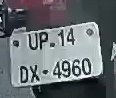0: (80, 56, 92, 75)
1: (57, 29, 66, 49)
4: (65, 26, 78, 47), (52, 61, 62, 81)
6: (70, 56, 82, 78)
9: (61, 60, 71, 78)
D: (20, 65, 30, 85)
P: (37, 30, 49, 51)
U: (28, 32, 39, 52)
X: (29, 62, 42, 84)
